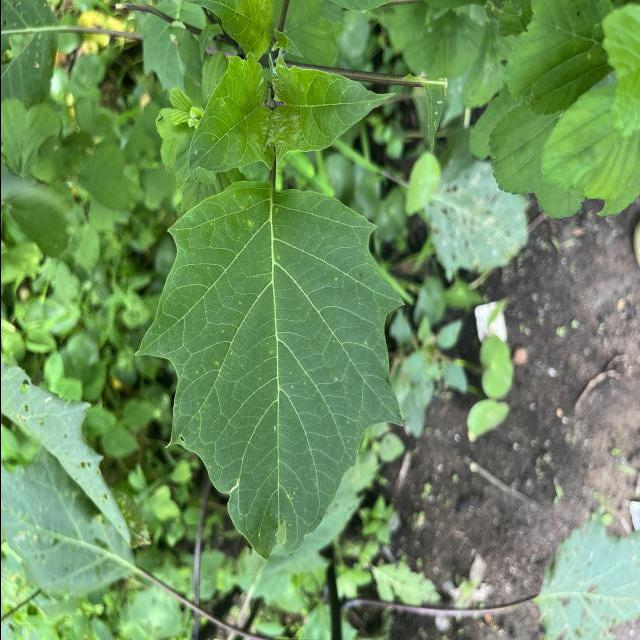Datura metal linn: (129, 174, 411, 566), (262, 43, 401, 178), (171, 49, 276, 190)
